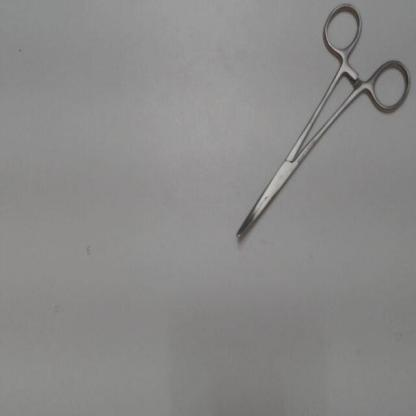Crile Artery Forceps: (230, 1, 414, 249)
